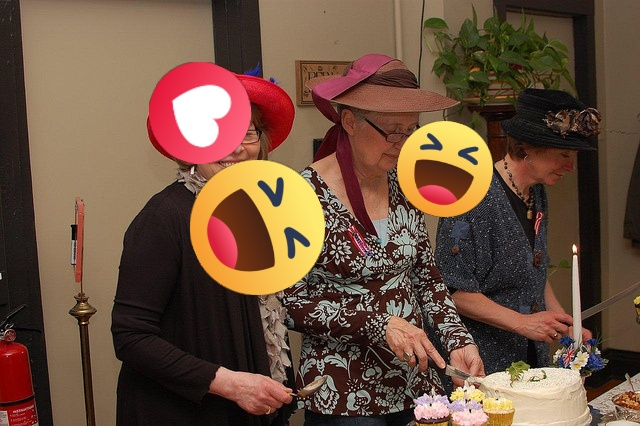haha: (190, 160, 325, 295), (397, 121, 493, 217)
love: (149, 62, 251, 164)
